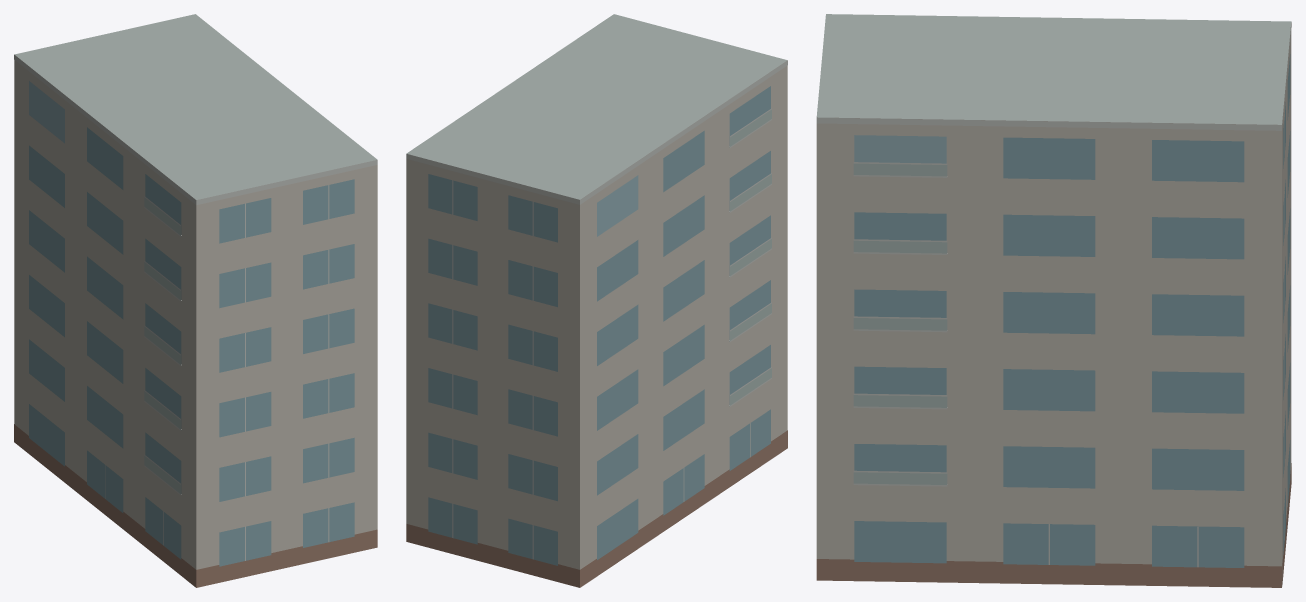
File: survey-upis-32664919.glb
3 views of the same model, side by side, from view 1: azimuth 30°, elevation 25°; view 2: azimuth 150°, elevation 25°; view 3: azimuth 270°, elevation 25° (orthographic). The views are drawn at different scales.
Parts seen in each view (by area): view 1: survey-upis-32664919.tmp; view 2: survey-upis-32664919.tmp; view 3: survey-upis-32664919.tmp.
Part boxes in pixels (x1,y1,x2,y2): survey-upis-32664919.tmp: (14, 14, 377, 587); survey-upis-32664919.tmp: (406, 14, 787, 587); survey-upis-32664919.tmp: (816, 14, 1291, 587).
Size of the model in its own units: 9.59 by 18.65 by 17.34.
